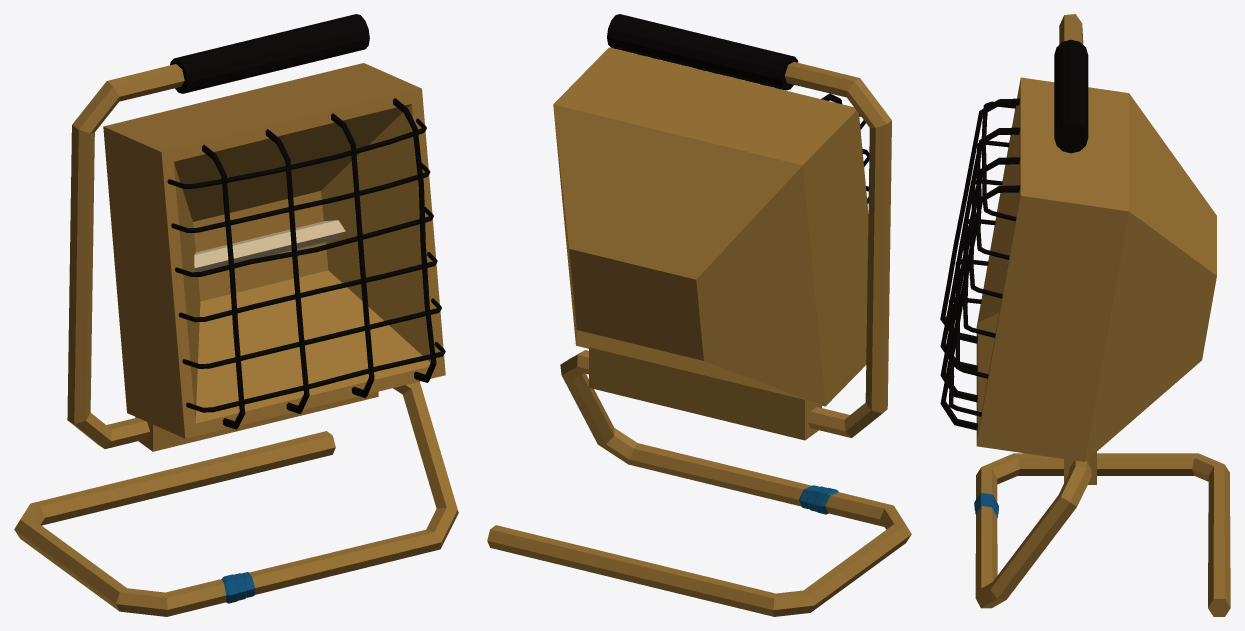
Rendered from SM_Lamp_01.glb.
The picture shows the model from 3 angles, left to right: view 1: azimuth 30°, elevation 25°; view 2: azimuth 150°, elevation 25°; view 3: azimuth 270°, elevation 25°; orthographic projection. The views are drawn at different scales.
Visible parts, largest first — view 1: SM_Lamp_01; view 2: SM_Lamp_01; view 3: SM_Lamp_01.
Part boxes in pixels (x1=…): SM_Lamp_01: x1=14, y1=14, x2=458, y2=616; SM_Lamp_01: x1=487, y1=14, x2=911, y2=616; SM_Lamp_01: x1=940, y1=14, x2=1230, y2=616.
Bounding box in the file's own units: 0.3233 × 0.4568 × 0.2538.
Materials: 1 (1 with a texture image).
